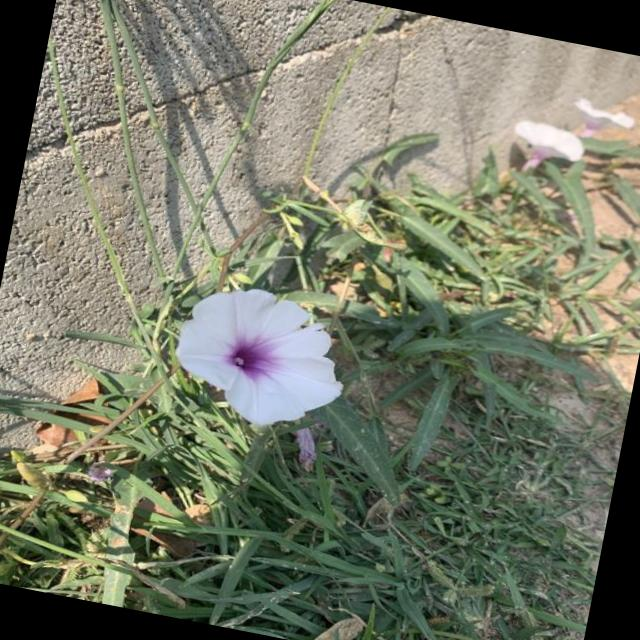ipomoea: (158, 272, 362, 443)
